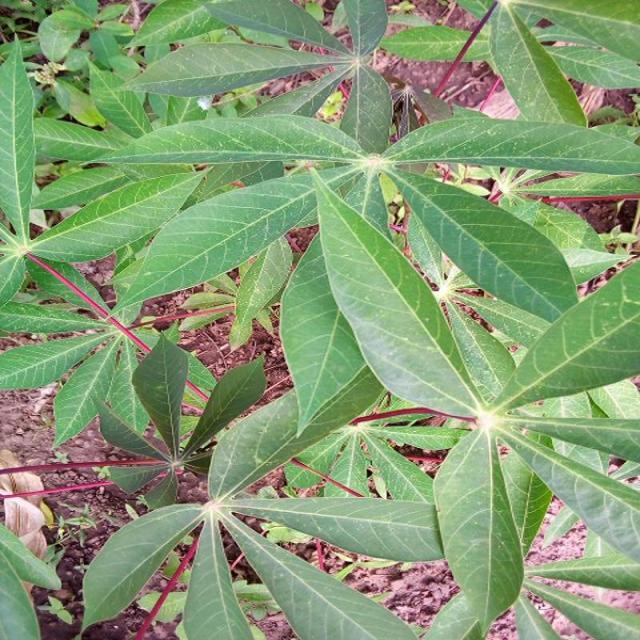cassava leaf: (0, 1, 638, 638), (308, 163, 484, 419)
